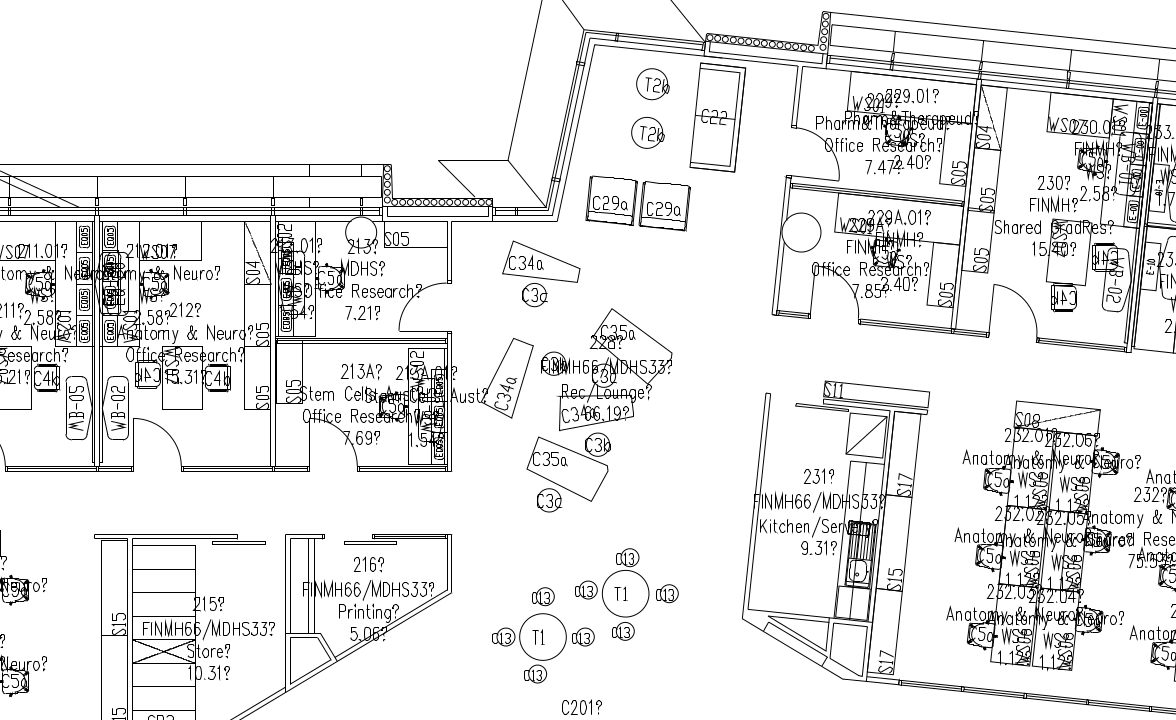door: (789, 125, 853, 187), (981, 279, 1045, 340), (804, 265, 868, 326), (388, 275, 452, 336), (302, 412, 366, 473), (127, 416, 191, 477)
